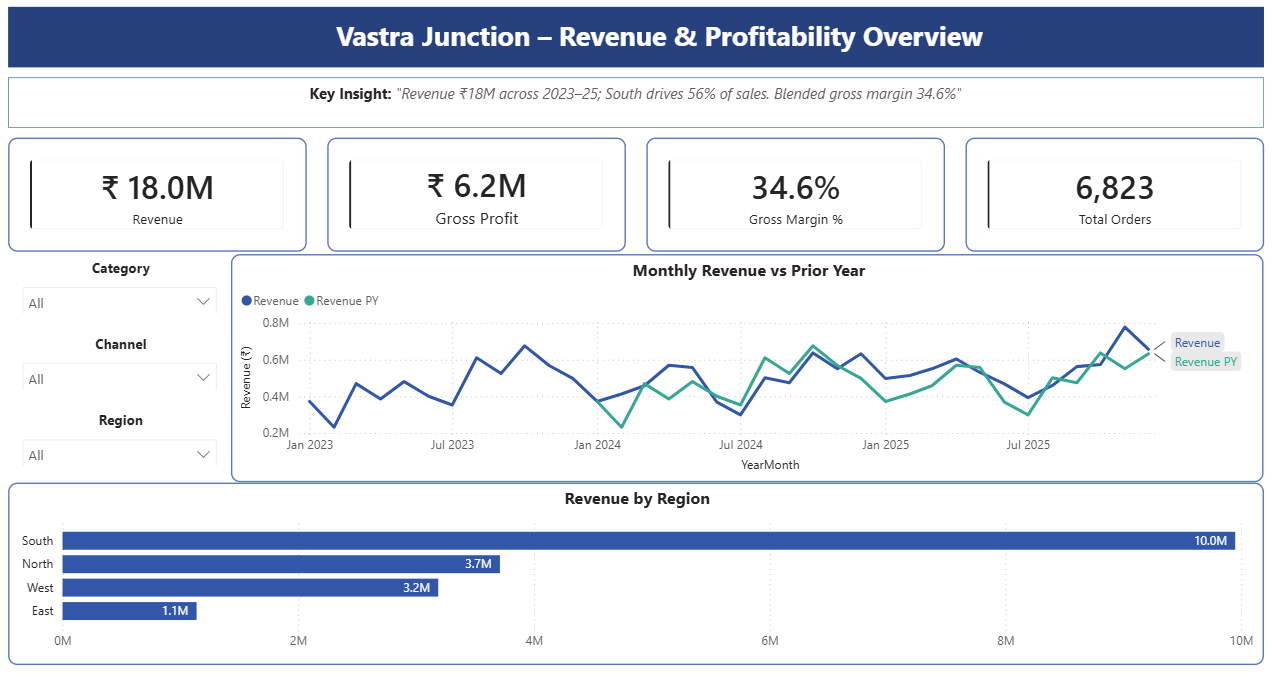

The page's visual inventory and layout, read from the dashboard file:
{"tool":"powerbi","page":{"name":"Overview","canvas":[1280,720],"ordinal":0},"visuals":[{"type":"cardVisual","fields":{"Data":["clean_sales.Revenue"]},"box":[20,145,295.1,113],"z":0},{"type":"cardVisual","fields":{"Data":["clean_sales.Gross Profit"]},"box":[335,145,295.1,113],"z":1000},{"type":"cardVisual","fields":{"Data":["clean_sales.Gross Margin %"]},"box":[650,145,295.1,113],"z":2000},{"type":"cardVisual","fields":{"Data":["clean_sales.Total Orders"]},"box":[965,145,295.1,113],"z":3000},{"type":"lineChart","title":"Monthly Revenue vs Prior Year","fields":{"Y":["clean_sales.Revenue","clean_sales.Revenue PY"],"Category":["dim_date.YearMonth"]},"box":[240.4,259.5,1020.2,225.1],"z":4000},{"type":"clusteredBarChart","title":"Revenue by Region","fields":{"Category":["clean_sales.region"],"Y":["clean_sales.Revenue"]},"box":[20,485,1240,180],"z":5000},{"type":"slicer","title":"Category","fields":{"Values":["clean_sales.category"]},"box":[20.4,260,220.1,60],"z":6000},{"type":"slicer","title":"Region","fields":{"Values":["clean_sales.region"]},"box":[20.4,410,220.1,60],"z":7000},{"type":"slicer","title":"Channel","fields":{"Values":["clean_sales.channel"]},"box":[20.4,335,220.1,60],"z":8000},{"type":"textbox","box":[20,15,1240,60],"z":9000},{"type":"textbox","box":[20,85,1240,50],"z":10000}]}

Visuals, with their boxes on the page's 1280x720 design canvas (x1, y1, x2, y2). These are canvas units, not pixel positions in the 1272x677 screenshot, which may show the page scaled, cropped or inside an application window:
cardVisual - clean_sales.Revenue: [20, 145, 315, 258]
cardVisual - clean_sales.Gross Profit: [335, 145, 630, 258]
cardVisual - clean_sales.Gross Margin %: [650, 145, 945, 258]
cardVisual - clean_sales.Total Orders: [965, 145, 1260, 258]
"Monthly Revenue vs Prior Year" lineChart: [240, 260, 1261, 485]
"Revenue by Region" clusteredBarChart: [20, 485, 1260, 665]
"Category" slicer: [20, 260, 240, 320]
"Region" slicer: [20, 410, 240, 470]
"Channel" slicer: [20, 335, 240, 395]
textbox: [20, 15, 1260, 75]
textbox: [20, 85, 1260, 135]
